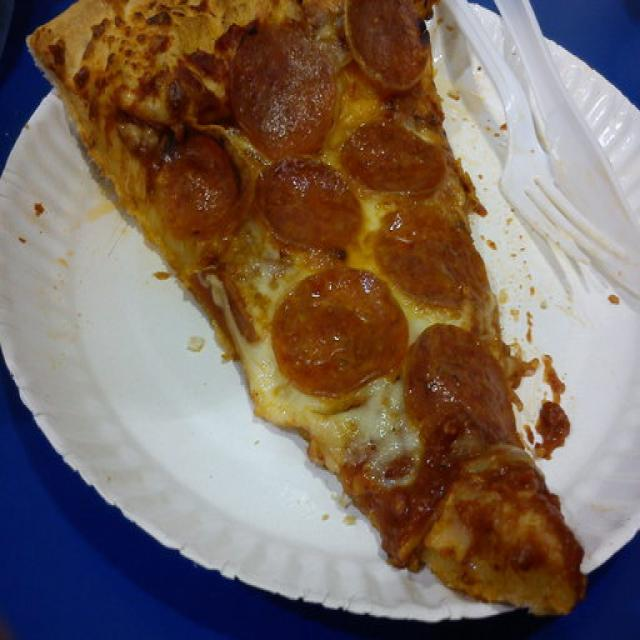Cheese: (329, 412, 401, 460)
Pepperoni: (272, 259, 404, 401), (234, 17, 332, 153), (145, 126, 244, 238), (381, 204, 486, 303), (257, 152, 354, 254), (413, 326, 508, 421), (344, 0, 427, 94), (340, 120, 439, 190)
Pizza: (26, 0, 585, 618)
